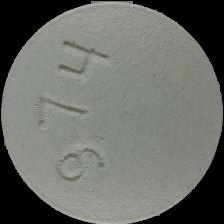69189-0270: (0, 0, 224, 224)
